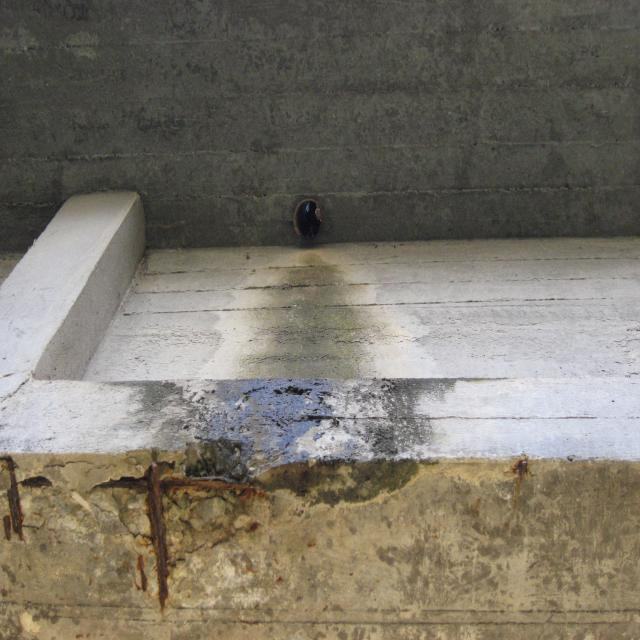corrosion: (82, 455, 391, 640), (438, 453, 548, 533), (0, 451, 38, 548), (290, 193, 324, 244)
